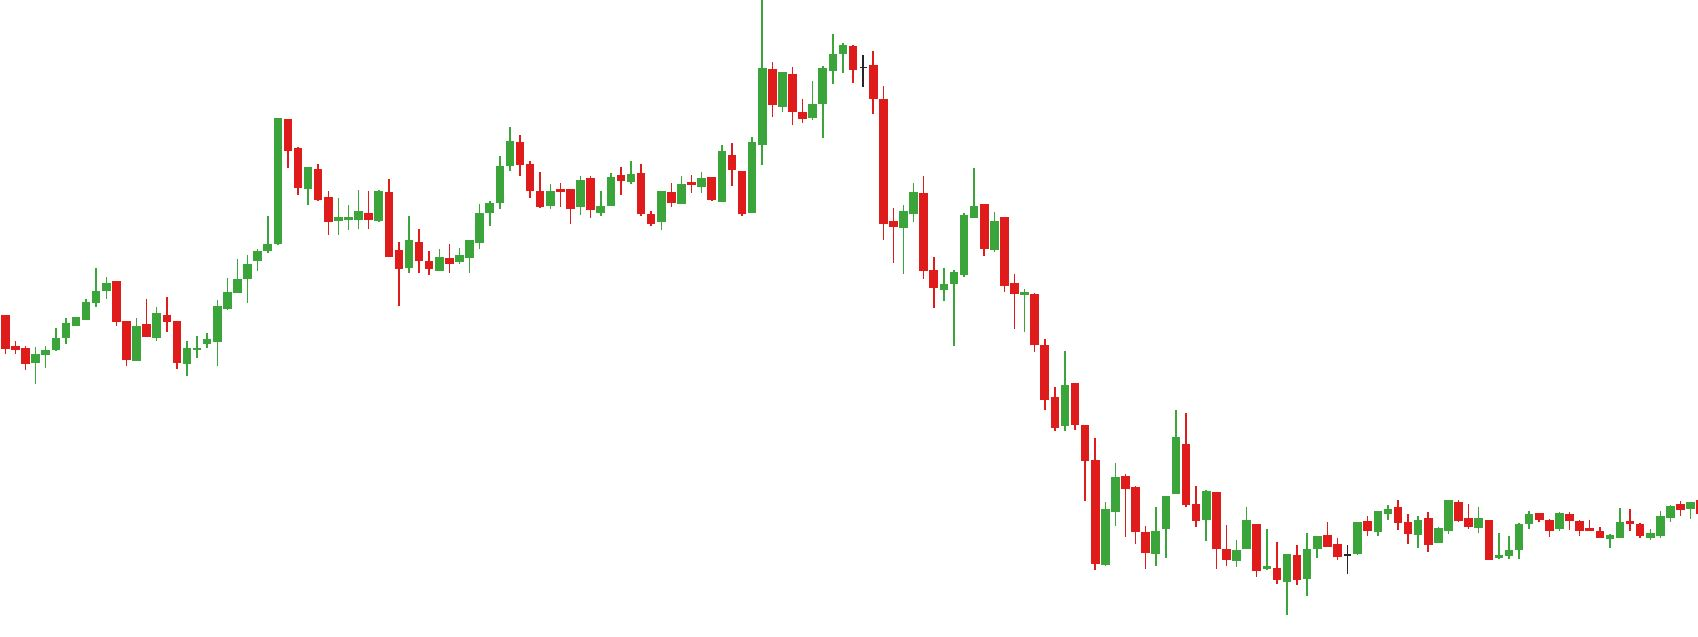buy: (122, 311, 193, 382)
sell: (1112, 408, 1191, 537), (917, 168, 978, 268)
